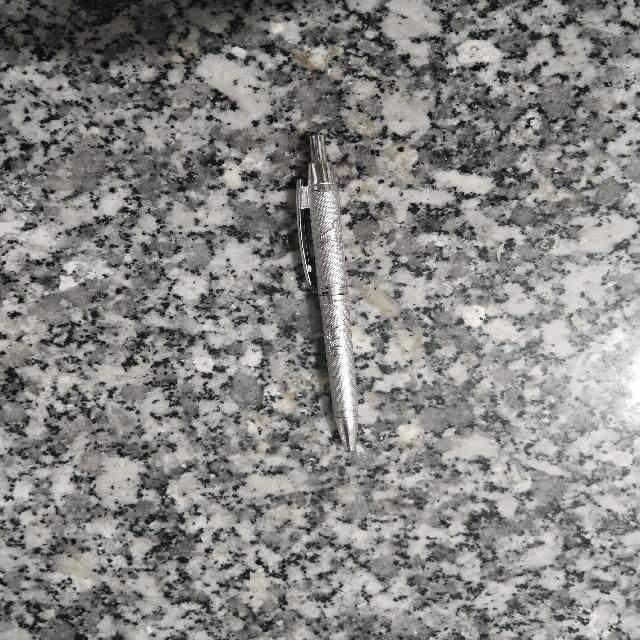signature pen: (296, 135, 357, 450)
